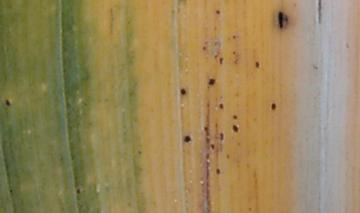tarspot: (277, 10, 288, 30), (184, 134, 192, 143), (208, 78, 216, 85), (219, 132, 224, 142), (180, 88, 187, 95), (232, 124, 239, 131), (254, 61, 261, 68), (271, 102, 276, 111), (6, 99, 11, 107), (219, 57, 224, 65), (216, 168, 221, 175), (210, 143, 215, 150), (219, 103, 224, 109), (203, 127, 209, 132), (201, 46, 207, 51), (226, 153, 230, 160), (215, 10, 221, 14), (232, 116, 238, 120), (9, 189, 14, 193), (77, 188, 81, 193), (232, 50, 236, 55), (233, 35, 236, 39)
